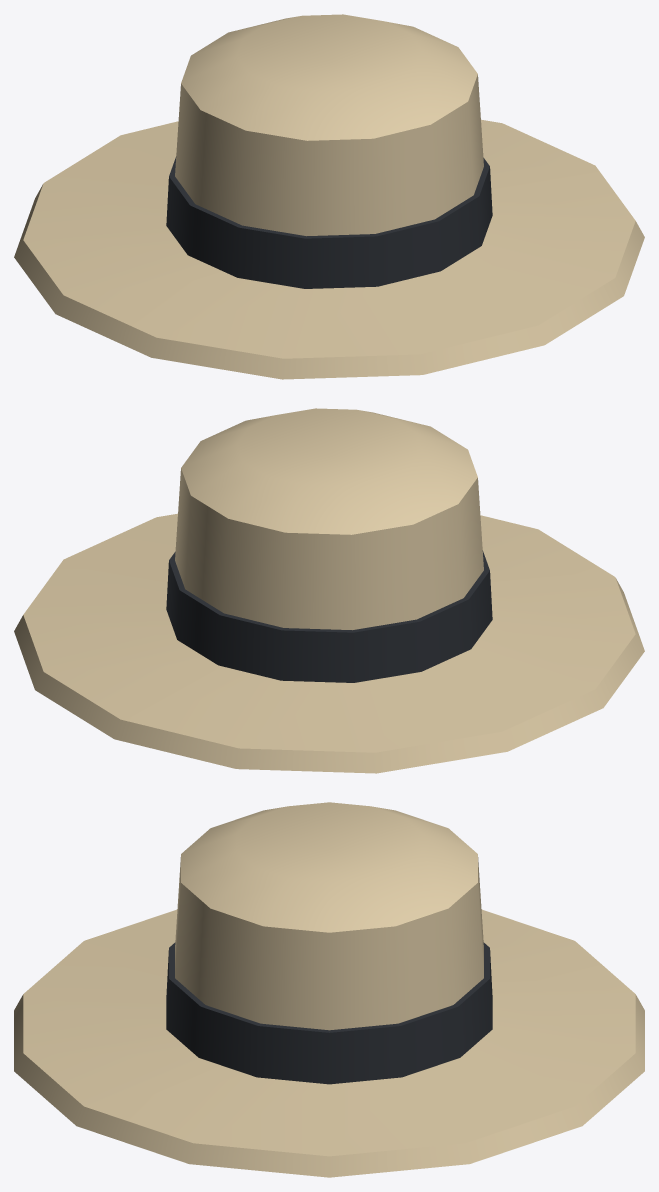
File: hat.glb
3 views of the same model, one above another, from view 1: azimuth 30°, elevation 25°; view 2: azimuth 150°, elevation 25°; view 3: azimuth 270°, elevation 25° (orthographic). The views are drawn at different scales.
Parts seen in each view (by area): view 1: hat; view 2: hat; view 3: hat.
Boxes of the visible parts, <box> form: hat: <box>14,14,644,379</box>; hat: <box>14,408,644,773</box>; hat: <box>14,802,644,1177</box>.
Bounding box in the file's own units: 0.34 × 0.115 × 0.3315.
